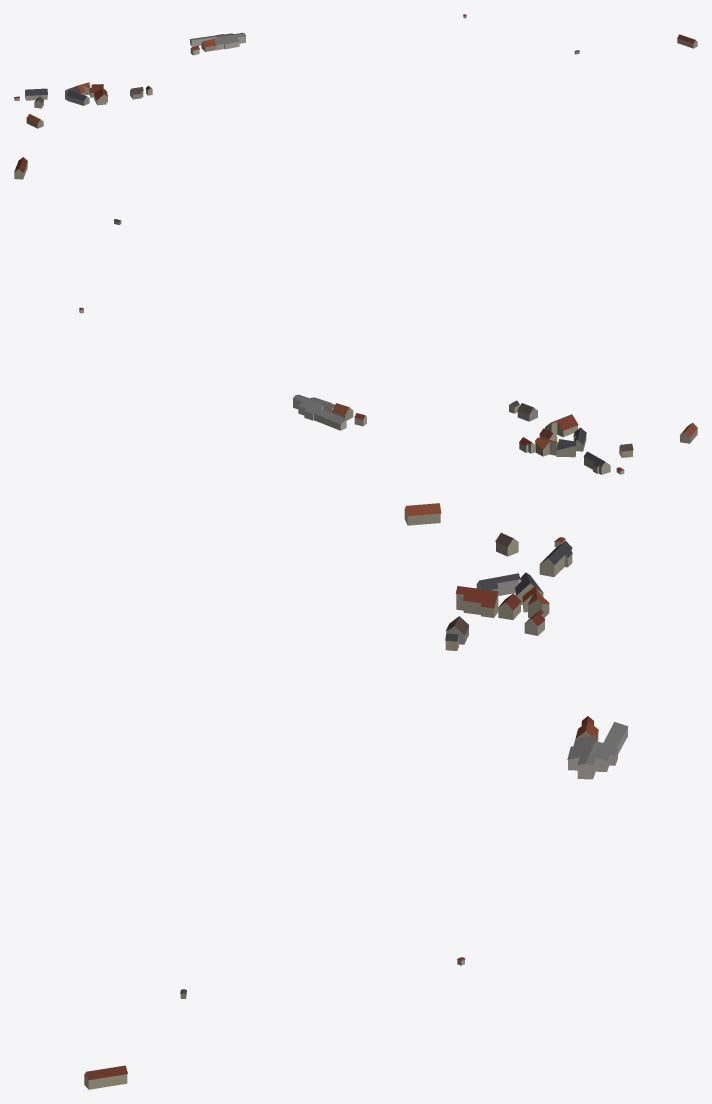
3 views of the same model, one above another, from view 1: azimuth 30°, elevation 25°; view 2: azimuth 150°, elevation 25°; view 3: azimuth 270°, elevation 25° (orthographic). The views are drawn at different scales.
Visible parts, largest first — view 1: buildings; view 2: buildings; view 3: buildings.
Part boxes in pixels (x1,y1,x2,y2): buildings: [14, 14, 697, 128]; buildings: [14, 157, 697, 474]; buildings: [84, 503, 628, 1089].
Size of the model in its own units: 729 by 22.24 by 294.
